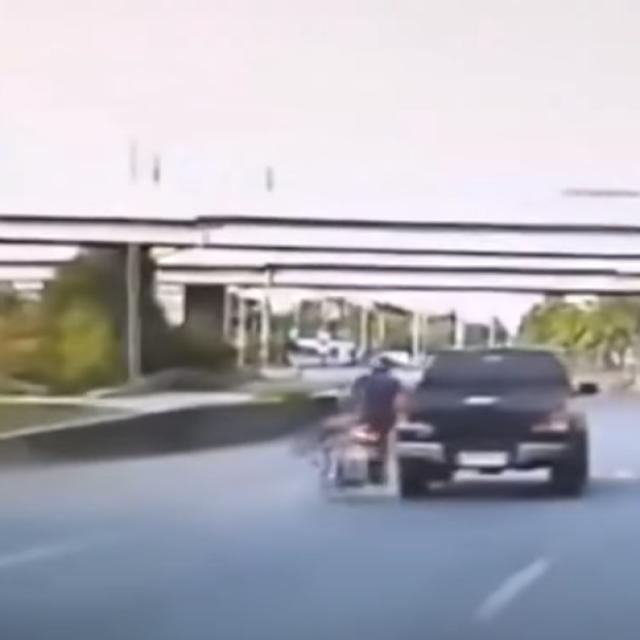accident: (320, 345, 604, 499)
